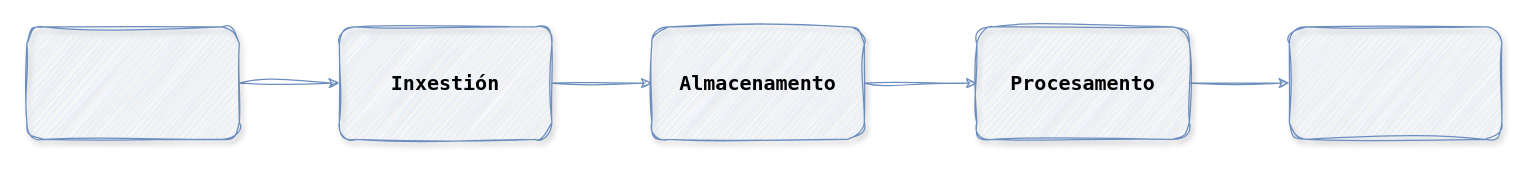
The diagram is 1531 pixels wide and 170 high, and some of its shapes have lost their labels. The shapes that lost their labels are listed below. From the top down, each one's centre as x and y in pixels, then its label:
the point at 134,84: Fontes de datos
the point at 1396,84: Consumo
